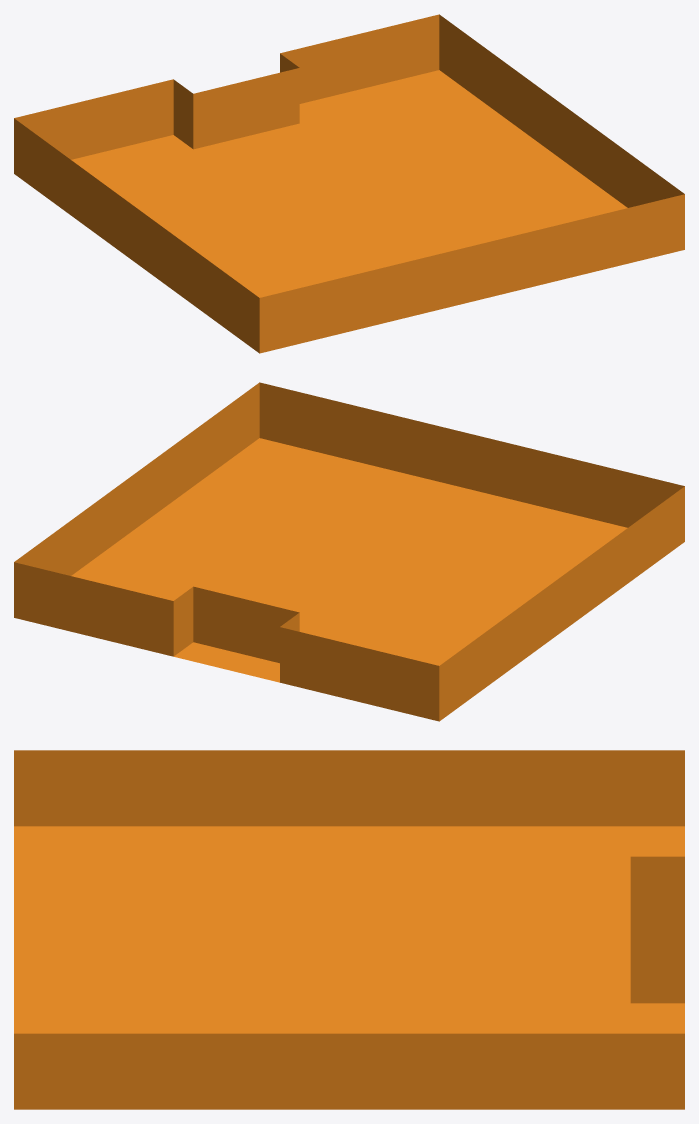
File: muzeum_13.fbx
3 views of the same model, one above another, from view 1: azimuth 30°, elevation 25°; view 2: azimuth 150°, elevation 25°; view 3: azimuth 270°, elevation 25° (orthographic). The views are drawn at different scales.
Visible parts, largest first — view 1: Cube_001; view 2: Cube_001; view 3: Cube_001.
Boxes of the visible parts, x1,y1,x2,y2 form: Cube_001: (14,14,684,353); Cube_001: (14,382,684,721); Cube_001: (14,750,684,1109).
Size of the model in its own units: 24.2 by 3.02 by 24.2.
1 material, 1 textured.
